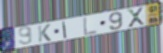9: (18, 26, 34, 48), (107, 11, 124, 31)
I: (62, 20, 68, 39)
K: (37, 23, 53, 44)
L: (82, 16, 98, 37)
X: (126, 6, 147, 29)
